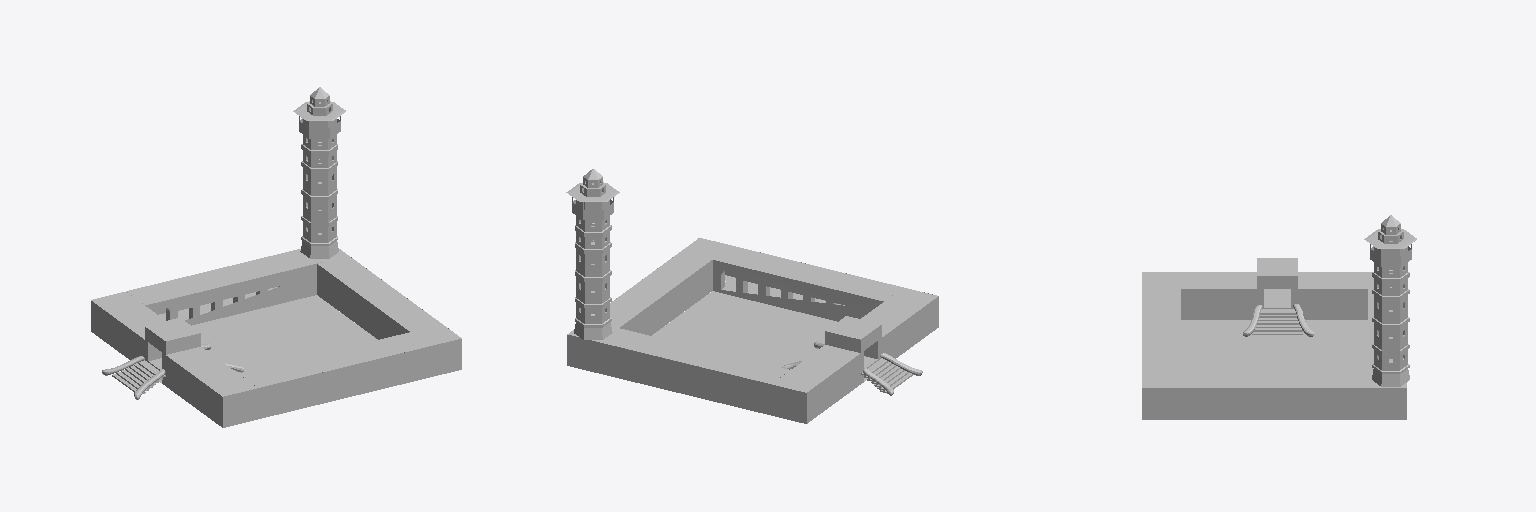
File: omariPreSmoothing.obj
3 renders of one model, left to right at view 1: azimuth 30°, elevation 25°; view 2: azimuth 150°, elevation 25°; view 3: azimuth 270°, elevation 25°, orthographic.
Parts seen in each view (by area): view 1: Cube.015, Cube.013, aOmariNEwTest, Cube.014, Cylinder.001, StairsOutside; view 2: Cube.015, Cube.013, aOmariNEwTest, Cylinder.001, Cube.014, StairsOutside; view 3: Cube.015, Cube.014, aOmariNEwTest, Cylinder.001, Cube.013, sTAIRS.
Part boxes in pixels (x1,y1,x2,y2): Cube.015: (192, 295, 429, 418); Cube.013: (91, 249, 348, 344); aOmariNEwTest: (110, 306, 257, 427); Cube.014: (317, 256, 461, 376); Cylinder.001: (293, 87, 345, 258); StairsOutside: (112, 360, 165, 393); Cube.015: (652, 246, 902, 379); Cube.013: (567, 326, 825, 423); aOmariNEwTest: (791, 287, 938, 409); Cylinder.001: (566, 169, 619, 339); Cube.014: (610, 238, 731, 346); StairsOutside: (861, 358, 913, 393); Cube.015: (1142, 289, 1367, 372); Cube.014: (1142, 373, 1367, 419); aOmariNEwTest: (1142, 258, 1367, 319); Cylinder.001: (1364, 215, 1416, 386); Cube.013: (1368, 272, 1406, 419); sTAIRS: (1252, 309, 1302, 334).
Size of the model in its own units: 37.32 by 25.25 by 31.94.